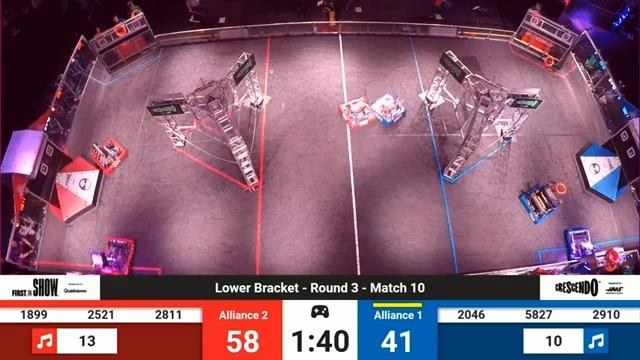robot: (516, 182, 562, 228), (90, 236, 140, 276), (84, 137, 127, 177), (339, 92, 377, 134), (368, 95, 412, 127), (562, 226, 595, 260)
